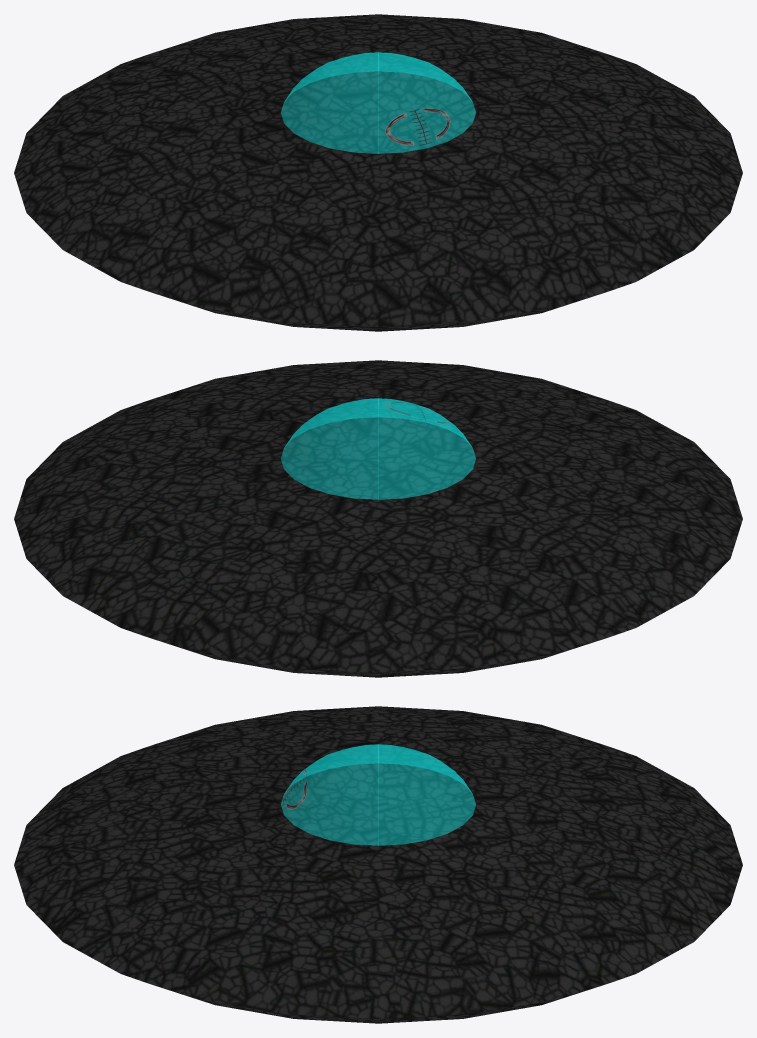
File: Ren_UFO_086a12e2e585.glb
3 renders of one model, top to bottom at view 1: azimuth 30°, elevation 25°; view 2: azimuth 150°, elevation 25°; view 3: azimuth 270°, elevation 25°, orthographic.
Visible parts, largest first — view 1: BODY; view 2: BODY; view 3: BODY.
Boxes of the visible parts, x1,y1,x2,y2 form: BODY: [14, 14, 742, 331]; BODY: [14, 360, 742, 677]; BODY: [14, 706, 742, 1023].
Bounding box in the file's own units: 3.86 × 0.9842 × 3.86.
1 material, 1 textured.
